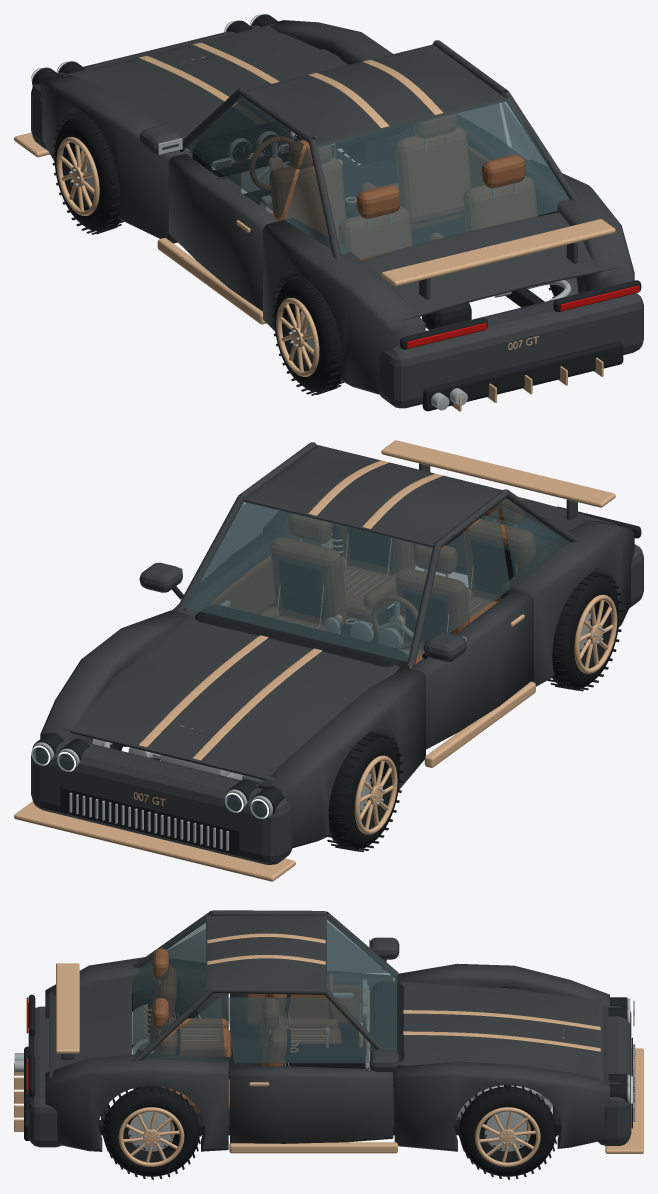
The picture shows the model from 3 angles, top to bottom: view 1: azimuth 30°, elevation 25°; view 2: azimuth 150°, elevation 25°; view 3: azimuth 270°, elevation 25°; orthographic projection. The views are drawn at different scales.
Visible parts, largest first — view 1: body_033_Заднее стекло, body_063_Задний бампер, body_031_Крыша, body_030_Капот, body_001_Заднее крыло -1, body_034_Задняя крышка, body_002_Дверь -1, body_000_Переднее крыло -1, body_007_Боковое стекло -1, interior_499_Спинка сиденья, body_016_Заднее крыло 1, body_064_Задний диффузор (+39 smaller); view 2: body_030_Капот, body_032_Лобовое стекло, body_035_Передний бампер, body_031_Крыша, body_000_Переднее крыло -1, body_002_Дверь -1, body_001_Заднее крыло -1, body_007_Боковое стекло -1, body_015_Переднее крыло 1, body_062_Нижний сплиттер, interior_544_Приборная панель, body_070_Задний спойлер (+36 smaller); view 3: body_030_Капот, body_017_Дверь 1, body_015_Переднее крыло 1, body_016_Заднее крыло 1, body_022_Боковое стекло 1, body_031_Крыша, body_032_Лобовое стекло, body_033_Заднее стекло, body_034_Задняя крышка, wheels_324_Шина, wheels_402_Шина, body_000_Переднее крыло -1 (+45 smaller).
Part boxes in pixels (<box>): body_033_Заднее стекло: <box>317,98,569,258</box>; body_063_Задний бампер: <box>379,290,643,408</box>; body_031_Крыша: <box>246,44,510,146</box>; body_030_Капот: <box>63,24,348,149</box>; body_001_Заднее крыло -1: <box>263,218,425,394</box>; body_034_Задняя крышка: <box>361,212,617,320</box>; body_002_Дверь -1: <box>168,153,279,311</box>; body_000_Переднее крыло -1: <box>40,73,191,243</box>; body_007_Боковое стекло -1: <box>186,99,303,217</box>; interior_499_Спинка сиденья: <box>395,127,470,224</box>; body_016_Заднее крыло 1: <box>525,170,634,293</box>; body_064_Задний диффузор: <box>422,341,623,411</box>; body_030_Капот: <box>63,615,399,780</box>; body_032_Лобовое стекло: <box>183,501,432,661</box>; body_035_Передний бампер: <box>31,740,292,864</box>; body_031_Крыша: <box>243,444,502,547</box>; body_000_Переднее крыло -1: <box>257,667,425,848</box>; body_002_Дверь -1: <box>410,590,533,749</box>; body_001_Заднее крыло -1: <box>501,520,634,686</box>; body_007_Боковое стекло -1: <box>417,508,510,656</box>; body_015_Переднее крыло 1: <box>40,610,188,743</box>; body_062_Нижний сплиттер: <box>14,801,295,881</box>; interior_544_Приборная панель: <box>195,605,409,671</box>; body_070_Задний спойлер: <box>381,440,615,507</box>; body_030_Капот: <box>397,981,603,1081</box>; body_017_Дверь 1: <box>230,1066,393,1143</box>; body_015_Переднее крыло 1: <box>394,1061,609,1151</box>; body_016_Заднее крыло 1: <box>45,1053,228,1151</box>; body_022_Боковое стекло 1: <box>226,997,375,1063</box>; body_031_Крыша: <box>206,914,326,991</box>; body_032_Лобовое стекло: <box>327,917,397,1051</box>; body_033_Заднее стекло: <box>133,915,205,1054</box>; body_034_Задняя крышка: <box>49,979,131,1077</box>; wheels_324_Шина: <box>103,1086,199,1176</box>; wheels_402_Шина: <box>459,1086,556,1176</box>; body_000_Переднее крыло -1: <box>395,963,609,1008</box>.
Size of the model in its own units: 2.22 by 1.5 by 4.74.
